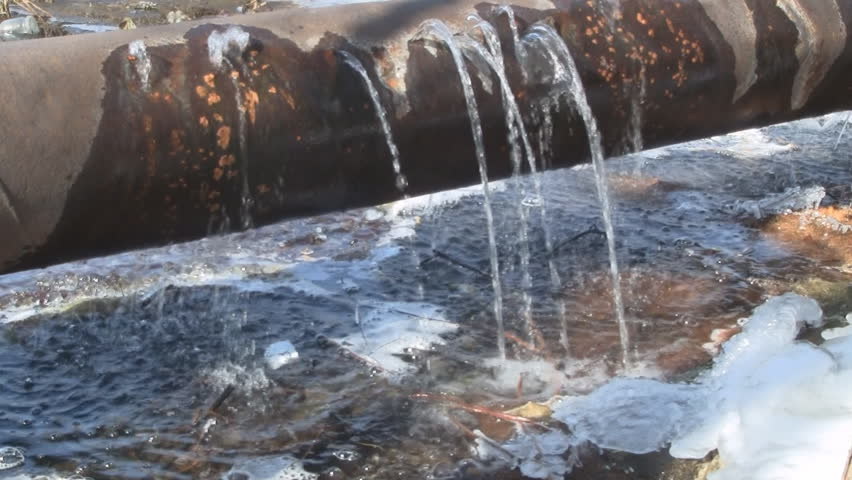rust: (181, 68, 276, 204), (576, 6, 717, 94)
